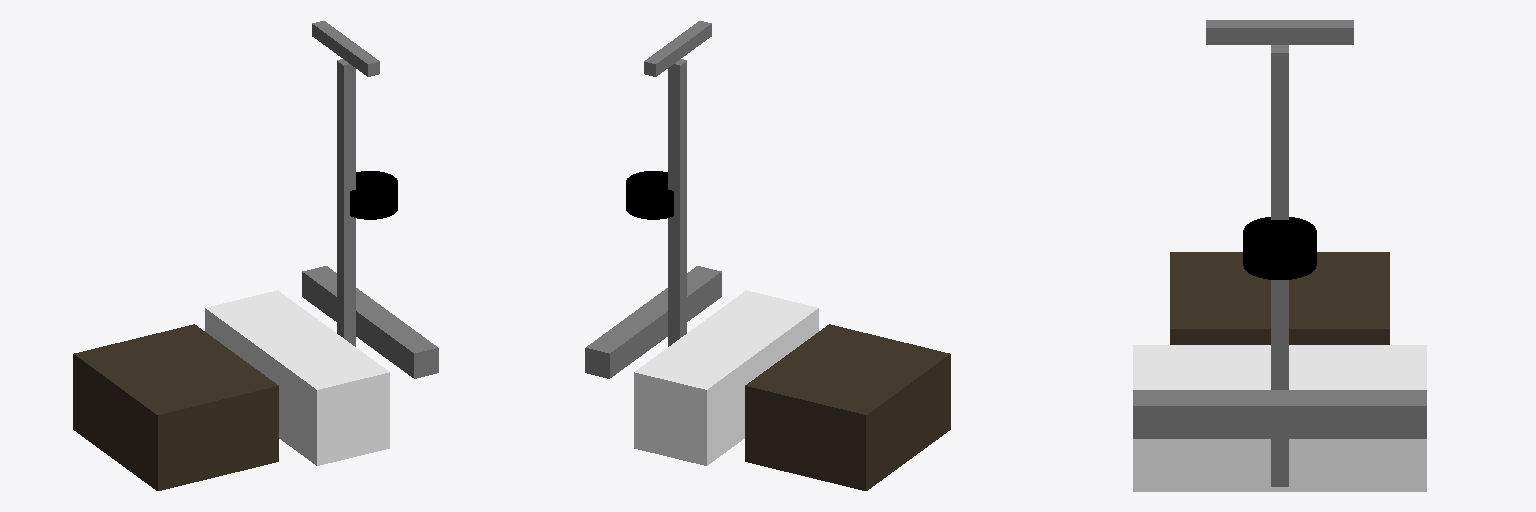
The robot description file, URDF, robot "scoomatic":
<?xml version="1.0"?>
<robot name="scoomatic">
    <!-- Links -->
    <link name="base_link">
        <visual>
            <geometry>
                <box size="0.3 0.8 0.3"/>
            </geometry>
            <origin xyz="0.0 0.0 0.15"/>
            <material name="white"/>
        </visual>
        <collision>
            <geometry>
                <box size="0.3 0.8 0.3"/>
            </geometry>
            <origin xyz="0.0 0.0 0.15"/>
        </collision>
    </link>

    <link name="base_platform">
        <visual>
            <geometry>
                <box size="0.5 0.6 0.3"/>
            </geometry>
            <origin xyz="-0.5 0.0 0.15"/>
            <material name="wood_brown"/>
        </visual>
        <collision>
            <geometry>
                <box size="0.5 0.6 0.3"/>
            </geometry>
            <origin xyz="-0.5 0.0 0.15"/>
        </collision>
    </link>

    <link name="frame_main_bar">
        <visual>
            <geometry>
                <box size="0.05 0.05 1.3"/>
            </geometry>
            <origin xyz="0.2 0.0 0.7"/>
            <material name="aluminium"/>
        </visual>
        <collision>
            <geometry>
                <box size="0.05 0.05 1.3"/>
            </geometry>
            <origin xyz="0.2 0.0 0.7"/>
        </collision>
    </link>

    <link name="frame_hand_bar">
        <visual>
            <geometry>
                <box size="0.05 0.4 0.05"/>
            </geometry>
            <origin xyz="0.2 0.0 1.4"/>
            <material name="aluminium"/>
        </visual>
        <collision>
            <geometry>
                <box size="0.05 0.4 0.05"/>
            </geometry>
            <origin xyz="0.2 0.0 1.4"/>
        </collision>
    </link>

    <!-- Sensor links -->
    <link name="laser">
        <visual>
            <geometry>
                <cylinder length="0.1" radius="0.1"/>
            </geometry>
            <origin xyz="0.3 0.0 0.8"/>
            <material name="black"/>
        </visual>
        <collision>
            <geometry>
                <cylinder length="0.1" radius="0.1"/>
            </geometry>
            <origin xyz="0.3 0.0 0.8"/>
        </collision>
    </link>

    <link name="sensor_sonar">
        <visual>
            <geometry>
                <box size="0.1 0.8 0.1"/>
            </geometry>
            <origin xyz="0.3 0.0 0.3"/>
            <material name="aluminium"/>
        </visual>
        <collision>
            <geometry>
                <box size="0.1 0.8 0.1"/>
            </geometry>
            <origin xyz="0.3 0.0 0.3"/>
        </collision>
    </link>

    <link name="sensor_imu">
        <visual>
            <geometry>
                <box size="0.02 0.01 0.02"/>
            </geometry>
            <origin xyz="0.05 -0.01 0.15"/>
            <material name="white"/>
        </visual>
        <collision>
            <geometry>
                <box size="0.02 0.01 0.02"/>
            </geometry>
            <origin xyz="0.05 -0.01 0.15"/>
        </collision>
    </link>

    <!-- Joints -->
    <joint name="base_to_mainbar" type="fixed">
        <parent link="base_link"/>
        <child link="frame_main_bar"/>
    </joint>

    <joint name="base_to_platform" type="fixed">
        <parent link="base_link"/>
        <child link="base_platform"/>
    </joint>

    <joint name="base_to_sonar" type="fixed">
        <parent link="base_link"/>
        <child link="sensor_sonar"/>
    </joint>

    <joint name="base_to_imu" type="fixed">
        <parent link="base_link"/>
        <child link="sensor_imu"/>
    </joint>

    <joint name="frame_to_laser" type="fixed">
        <parent link="frame_main_bar"/>
        <child link="laser"/>
    </joint>

    <joint name="mainbar_to_handbar" type="fixed">
        <parent link="frame_main_bar"/>
        <child link="frame_hand_bar"/>
    </joint>

    <!-- Materials -->
    <material name="aluminium">
        <color rgba="0.55 0.55 0.55 1.0"/>
    </material>

    <material name="wood_brown">
        <color rgba="0.31 0.26 0.21 1.0"/>
    </material>

    <material name="black">
        <color rgba="0.0 0.0 0.0 1.0"/>
    </material>

    <material name="white">
        <color rgba="1.0 1.0 1.0 1.0"/>
    </material>
</robot>

--- What the picture shows (computed from the rendered views, not written in the file) ---
Views: 3 orthographic renders of the robot side by side, from view 1: azimuth 30°, elevation 25°; view 2: azimuth 150°, elevation 25°; view 3: azimuth 270°, elevation 25°.
Model scoomatic with 7 links and 6 joints (6 fixed), rooted at base_link, posed every joint at zero.
Visible links, largest first — view 1: base_platform, base_link, sensor_sonar, frame_main_bar, laser, frame_hand_bar; view 2: base_platform, base_link, sensor_sonar, frame_main_bar, laser, frame_hand_bar; view 3: base_link, base_platform, sensor_sonar, frame_main_bar, laser, frame_hand_bar.
Boxes of the visible links, x1,y1,x2,y2 form: base_platform: (73, 324, 278, 490); base_link: (205, 290, 389, 465); sensor_sonar: (302, 266, 438, 378); frame_main_bar: (337, 59, 355, 346); laser: (350, 171, 397, 219); frame_hand_bar: (312, 21, 379, 76); base_platform: (745, 324, 950, 490); base_link: (634, 290, 818, 465); sensor_sonar: (585, 266, 721, 378); frame_main_bar: (668, 59, 686, 346); laser: (626, 171, 673, 219); frame_hand_bar: (644, 21, 711, 76); base_link: (1133, 345, 1426, 491); base_platform: (1170, 252, 1389, 344); sensor_sonar: (1133, 390, 1426, 438); frame_main_bar: (1271, 45, 1288, 486); laser: (1243, 217, 1316, 279); frame_hand_bar: (1206, 20, 1353, 44).
Bounding box of the posed robot: 1.15 × 0.8 × 1.43 m (x, y, z).
Geometry: primitives only (box / cylinder / sphere), no mesh files.